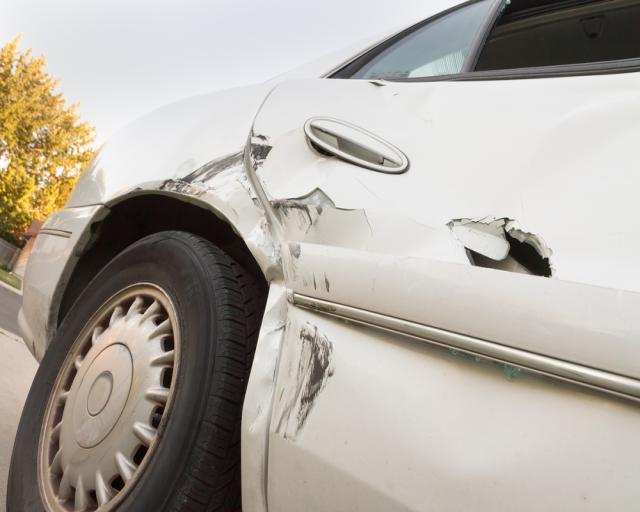crack: (465, 219, 553, 280)
scratch: (159, 146, 271, 248), (275, 318, 336, 446), (243, 119, 276, 170)
